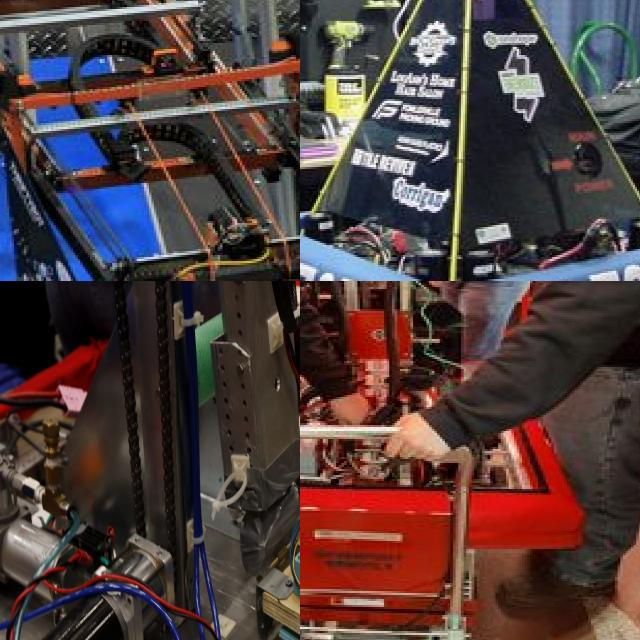FRC-Robots: (0, 281, 300, 640), (300, 281, 628, 586), (300, 0, 640, 281), (0, 0, 300, 281)
